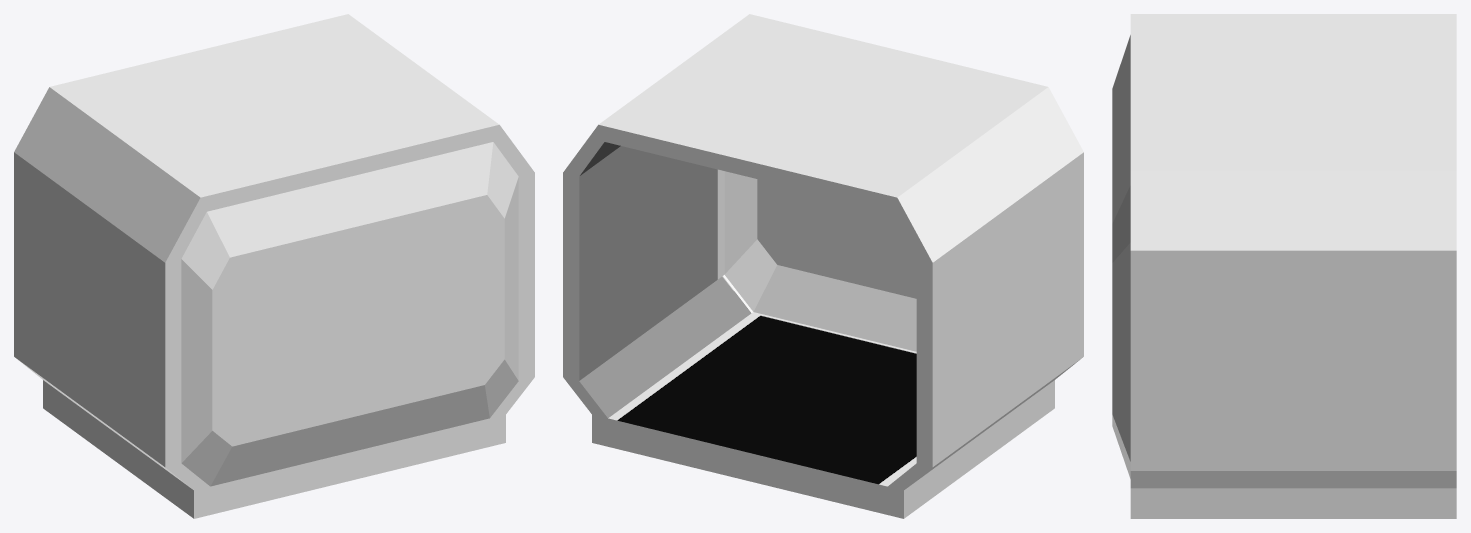
File: DeadEndHallway.dae
3 renders of one model, left to right at view 1: azimuth 30°, elevation 25°; view 2: azimuth 150°, elevation 25°; view 3: azimuth 270°, elevation 25°, orthographic. The views are drawn at different scales.
Visible parts, largest first — view 1: DeadEndHallway; view 2: DeadEndHallway; view 3: DeadEndHallway.
Part boxes in pixels (x1,y1,x2,y2): DeadEndHallway: [14, 14, 534, 518]; DeadEndHallway: [563, 14, 1083, 518]; DeadEndHallway: [1112, 14, 1456, 518].
Size of what is drawn, in the model's own units: 2.82 by 2.11 by 2.33.
